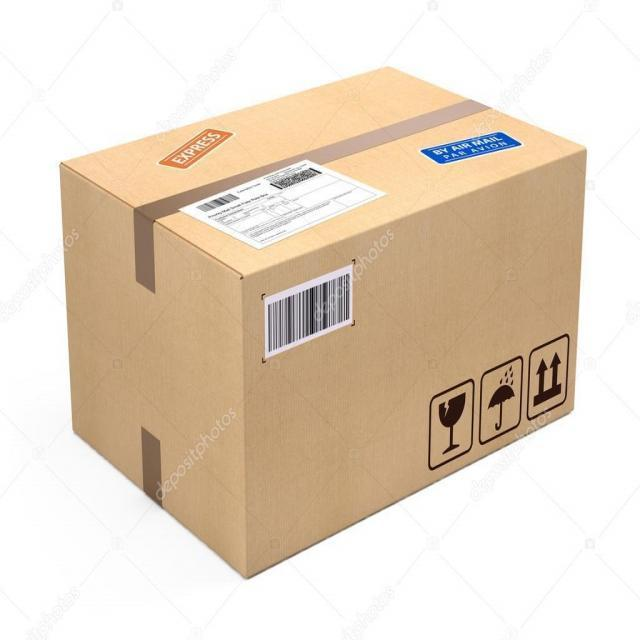box: (55, 53, 593, 581)
